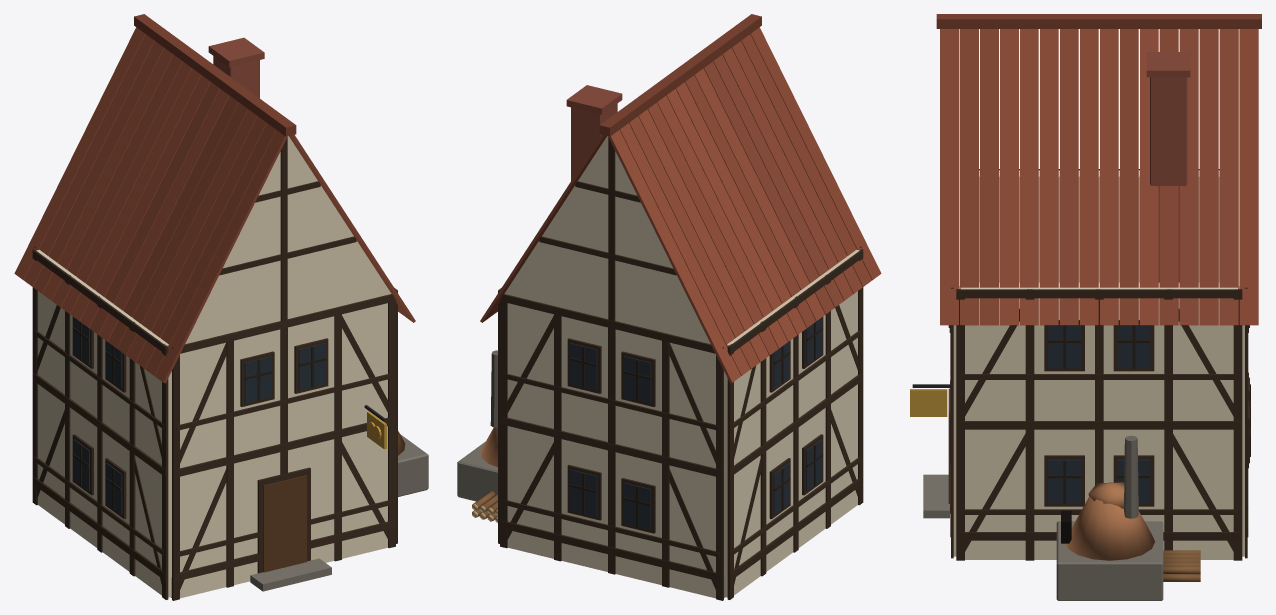
File: bakery_2.glb
3 views of the same model, side by side, from view 1: azimuth 30°, elevation 25°; view 2: azimuth 150°, elevation 25°; view 3: azimuth 270°, elevation 25° (orthographic). The views are drawn at different scales.
Visible parts, largest first — view 1: bakery2_plaster, bakery2_tiles, bakery2_wood, bakery2_glass, bakery2_stone, bakery2_brick; view 2: bakery2_plaster, bakery2_tiles, bakery2_wood, bakery2_glass, bakery2_brick, bakery2_stone, bakery2_log; view 3: bakery2_tiles, bakery2_plaster, bakery2_wood, bakery2_stone, bakery2_brick, bakery2_glass, bakery2_clay, bakery2_log.
Boxes of the visible parts, left/top/right/bottom form: bakery2_plaster: left=36, top=136, right=391, bottom=598; bakery2_tiles: left=14, top=14, right=415, bottom=383; bakery2_wood: left=32, top=137, right=397, bottom=600; bakery2_glass: left=73, top=317, right=325, bottom=514; bakery2_stone: left=171, top=434, right=428, bottom=597; bakery2_brick: left=208, top=37, right=264, bottom=98; bakery2_plaster: left=504, top=136, right=859, bottom=598; bakery2_tiles: left=480, top=14, right=881, bottom=383; bakery2_wood: left=498, top=137, right=863, bottom=600; bakery2_glass: left=570, top=317, right=822, bottom=529; bakery2_brick: left=566, top=85, right=622, bottom=180; bakery2_stone: left=457, top=350, right=724, bottom=597; bakery2_log: left=472, top=491, right=497, bottom=522; bakery2_tiles: left=936, top=14, right=1261, bottom=325; bakery2_plaster: left=953, top=29, right=1244, bottom=559; bakery2_wood: left=910, top=169, right=1250, bottom=560; bakery2_stone: left=923, top=435, right=1163, bottom=600; bakery2_brick: left=1146, top=52, right=1190, bottom=282; bakery2_glass: left=948, top=324, right=1249, bottom=503; bakery2_clay: left=1066, top=482, right=1155, bottom=560; bakery2_log: left=1163, top=550, right=1200, bottom=581.
Bounding box in the file's own units: 7.43 × 10.04 × 6.6.
